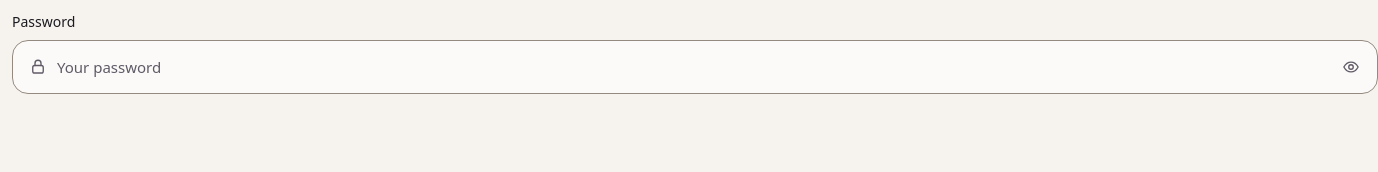
PasswordField › toggles between hidden and shown
Later steps or results of the test are not shown.
What coordinates should you click on to do the following:
click the button named "Show password"
I would click on:
 (1351, 67)
Its box is [1329,45,1373,89].
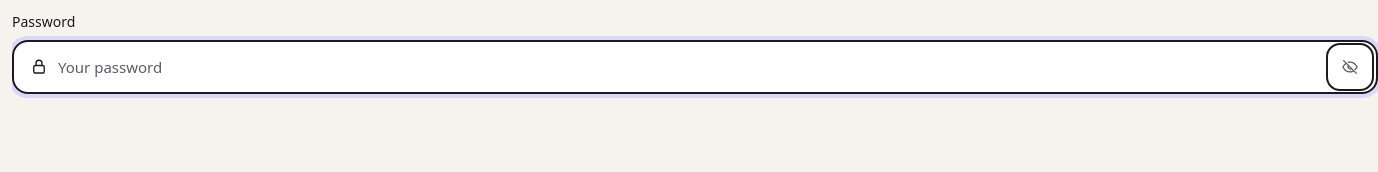
expect the button named "Show password" is pressed: met, box [1328,45,1372,89]
